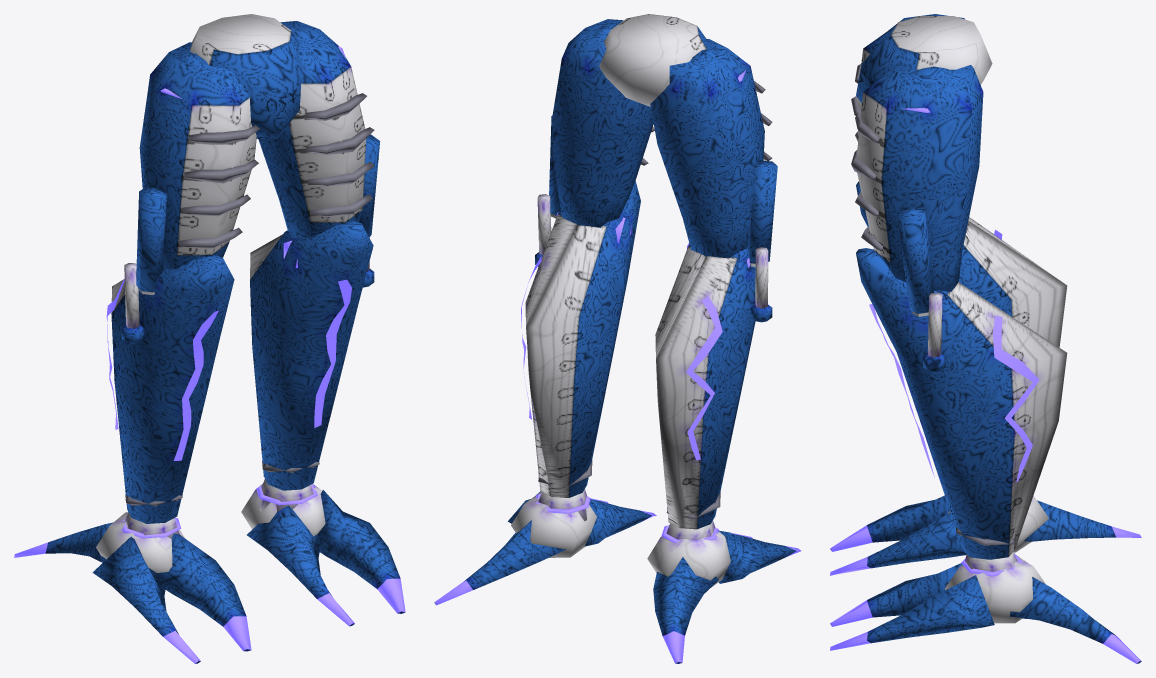
File: HighStrengthLegsZ.glb
3 renders of one model, left to right at view 1: azimuth 30°, elevation 25°; view 2: azimuth 150°, elevation 25°; view 3: azimuth 270°, elevation 25°, orthographic. The views are drawn at different scales.
Visible parts, largest first — view 1: HighStrengthLegsZ_ShinR, HighStrengthLegsZ_ShinL, HighStrengthLegsZ_ThighL, HighStrengthLegsZ_ThighR, HighStrengthLegsZ_FootL, HighStrengthLegsZ_FootR, HighStrengthLegsZ_Pelvis; view 2: HighStrengthLegsZ_ShinR, HighStrengthLegsZ_ShinL, HighStrengthLegsZ_ThighL, HighStrengthLegsZ_ThighR, HighStrengthLegsZ_FootL, HighStrengthLegsZ_FootR, HighStrengthLegsZ_Pelvis; view 3: HighStrengthLegsZ_ShinR, HighStrengthLegsZ_ThighR, HighStrengthLegsZ_FootR, HighStrengthLegsZ_FootL, HighStrengthLegsZ_ShinL, HighStrengthLegsZ_Pelvis, HighStrengthLegsZ_ThighL.
Part boxes in pixels (left/top/right/bottom): HighStrengthLegsZ_ShinR: left=250, top=221, right=374, bottom=490; HighStrengthLegsZ_ShinL: left=106, top=255, right=234, bottom=523; HighStrengthLegsZ_ThighL: left=136, top=42, right=259, bottom=294; HighStrengthLegsZ_ThighR: left=258, top=21, right=380, bottom=238; HighStrengthLegsZ_FootL: left=14, top=512, right=251, bottom=663; HighStrengthLegsZ_FootR: left=241, top=479, right=405, bottom=626; HighStrengthLegsZ_Pelvis: left=178, top=14, right=312, bottom=141; HighStrengthLegsZ_ShinR: left=521, top=181, right=640, bottom=497; HighStrengthLegsZ_ShinL: left=655, top=243, right=772, bottom=529; HighStrengthLegsZ_ThighL: left=650, top=38, right=777, bottom=266; HighStrengthLegsZ_ThighR: left=549, top=19, right=654, bottom=227; HighStrengthLegsZ_FootL: left=647, top=521, right=800, bottom=663; HighStrengthLegsZ_FootR: left=434, top=489, right=656, bottom=605; HighStrengthLegsZ_Pelvis: left=593, top=14, right=719, bottom=106; HighStrengthLegsZ_ShinR: left=856, top=248, right=1067, bottom=559; HighStrengthLegsZ_ThighR: left=851, top=64, right=983, bottom=316; HighStrengthLegsZ_FootR: left=830, top=552, right=1141, bottom=663; HighStrengthLegsZ_FootL: left=830, top=495, right=1141, bottom=575; HighStrengthLegsZ_ShinL: left=856, top=181, right=1067, bottom=347; HighStrengthLegsZ_Pelvis: left=856, top=16, right=992, bottom=102; HighStrengthLegsZ_ThighL: left=851, top=14, right=980, bottom=141.
Bounding box in the file's own units: 10.47 × 21.44 × 10.73.
5 materials, 4 textured.
